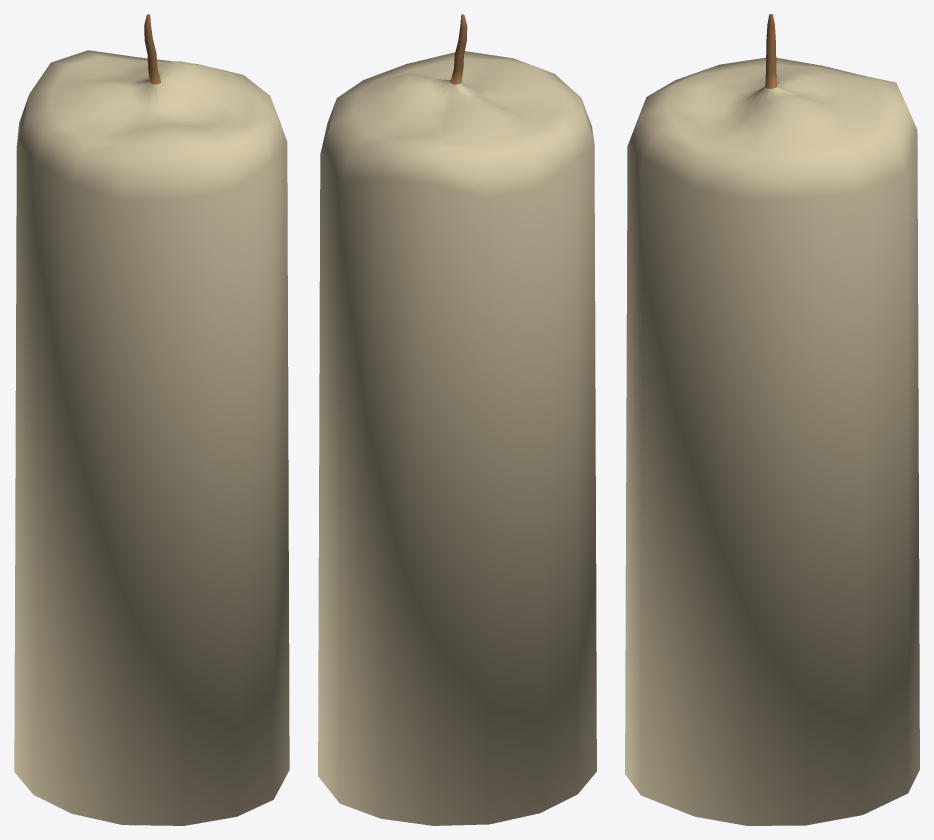
The model's file is CandleVar2.fbx.
3 renders of one model, left to right at view 1: azimuth 30°, elevation 25°; view 2: azimuth 150°, elevation 25°; view 3: azimuth 270°, elevation 25°, orthographic.
Visible parts, largest first — view 1: CandleVar2; view 2: CandleVar2; view 3: CandleVar2.
Boxes of the visible parts, x1,y1,x2,y2 form: CandleVar2: [14, 14, 289, 825]; CandleVar2: [318, 14, 596, 825]; CandleVar2: [625, 14, 919, 825].
Size of the model in its own units: 13.41 by 40.77 by 14.47.
